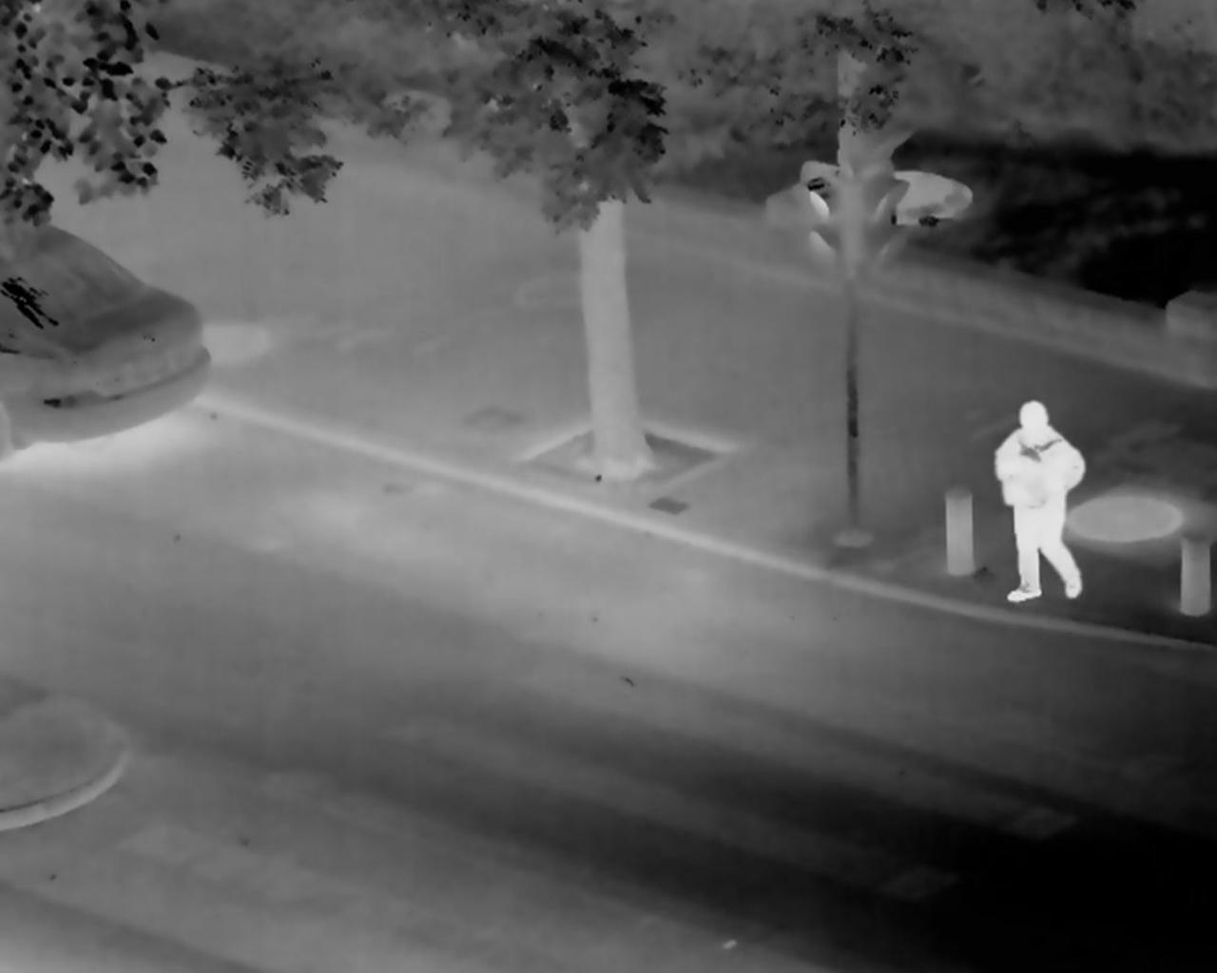person: (991, 400, 1084, 605)
